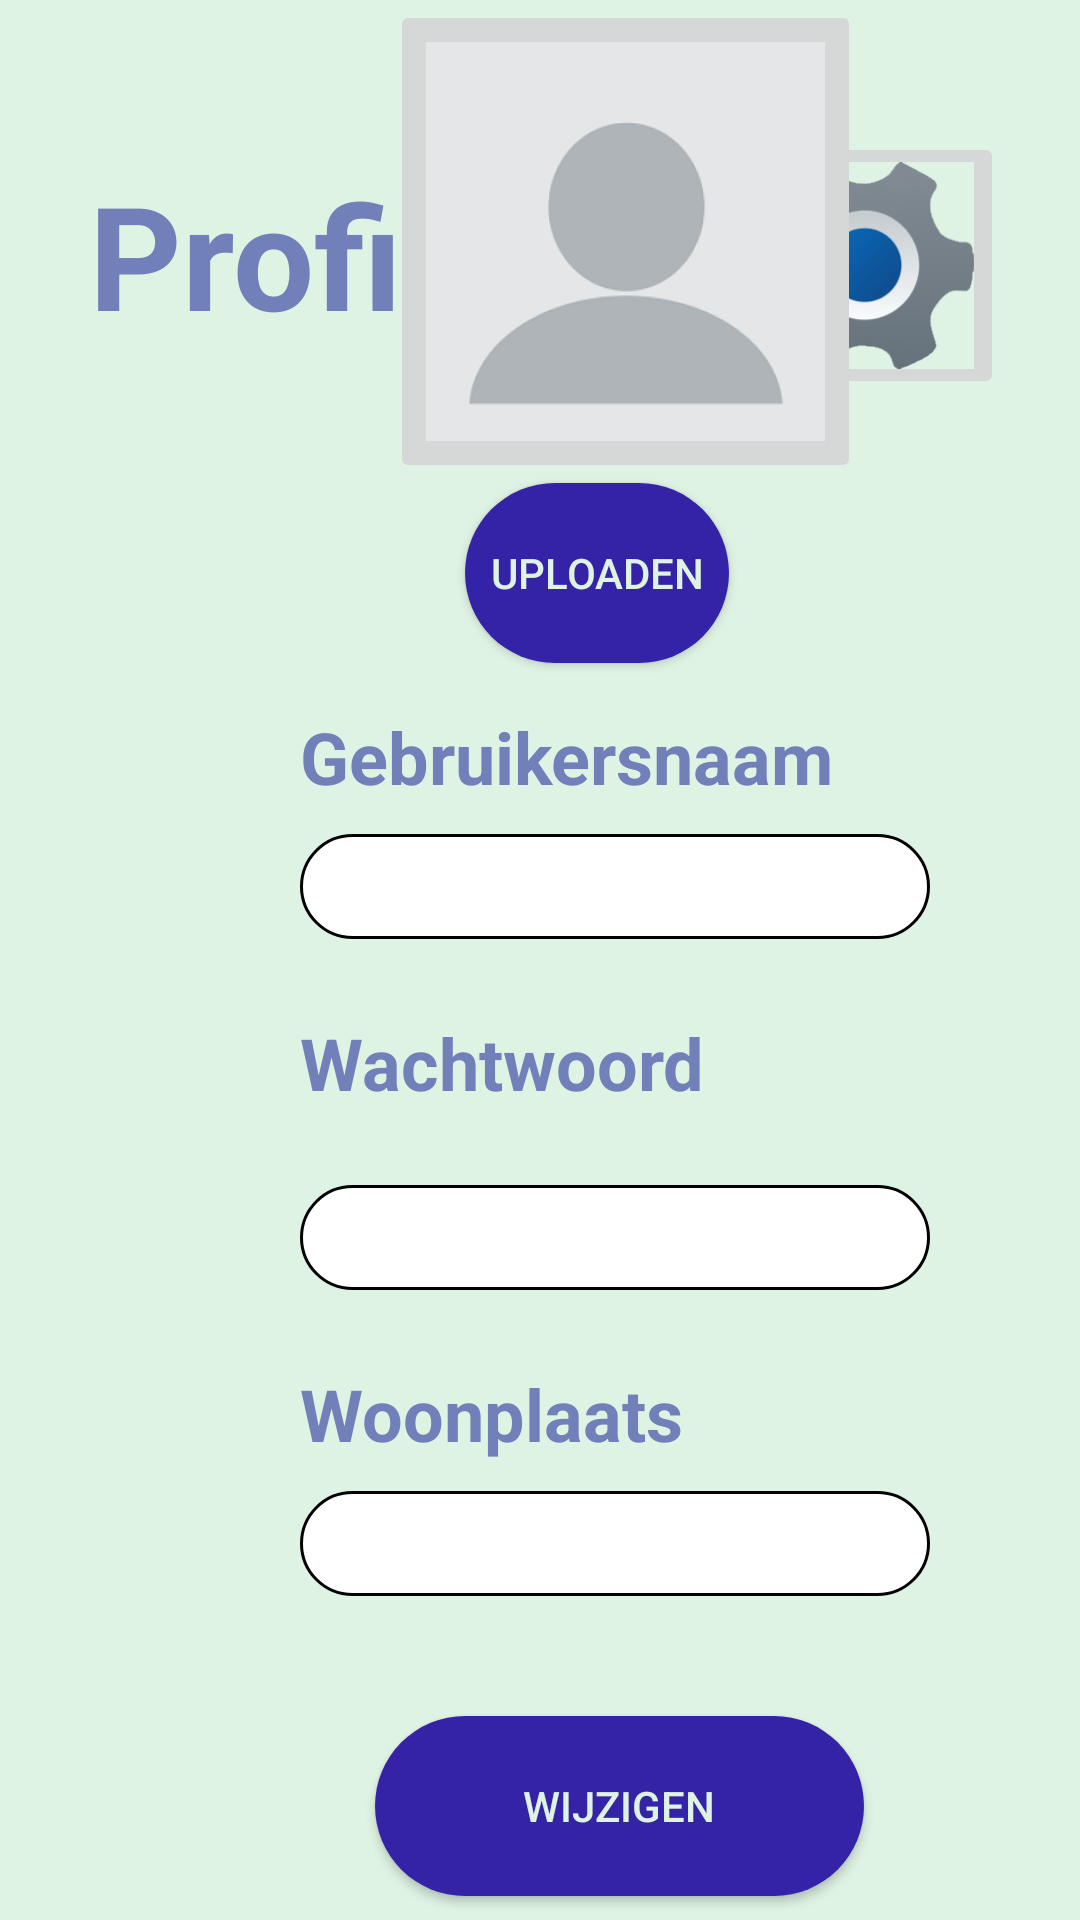

Icon click points for this 1080 x 1920 phone screenshot, format (x=x, y=y):
profilepicture: (x=626, y=264)
